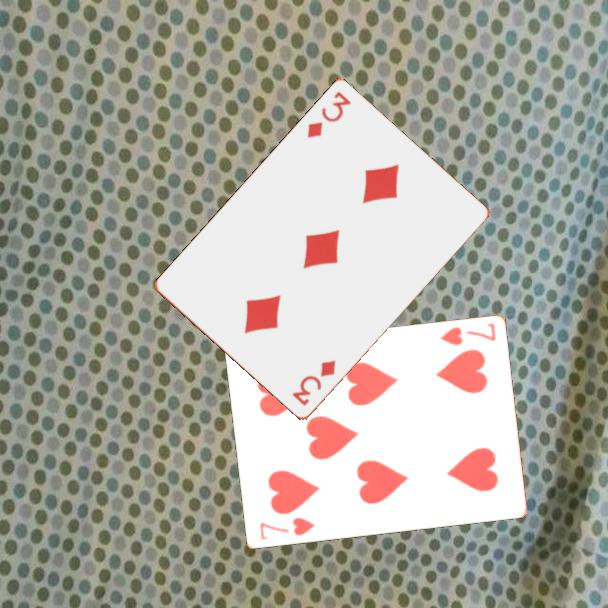d03: (304, 88, 354, 142), (288, 357, 339, 409)
h07: (256, 514, 317, 543), (436, 320, 498, 348)
